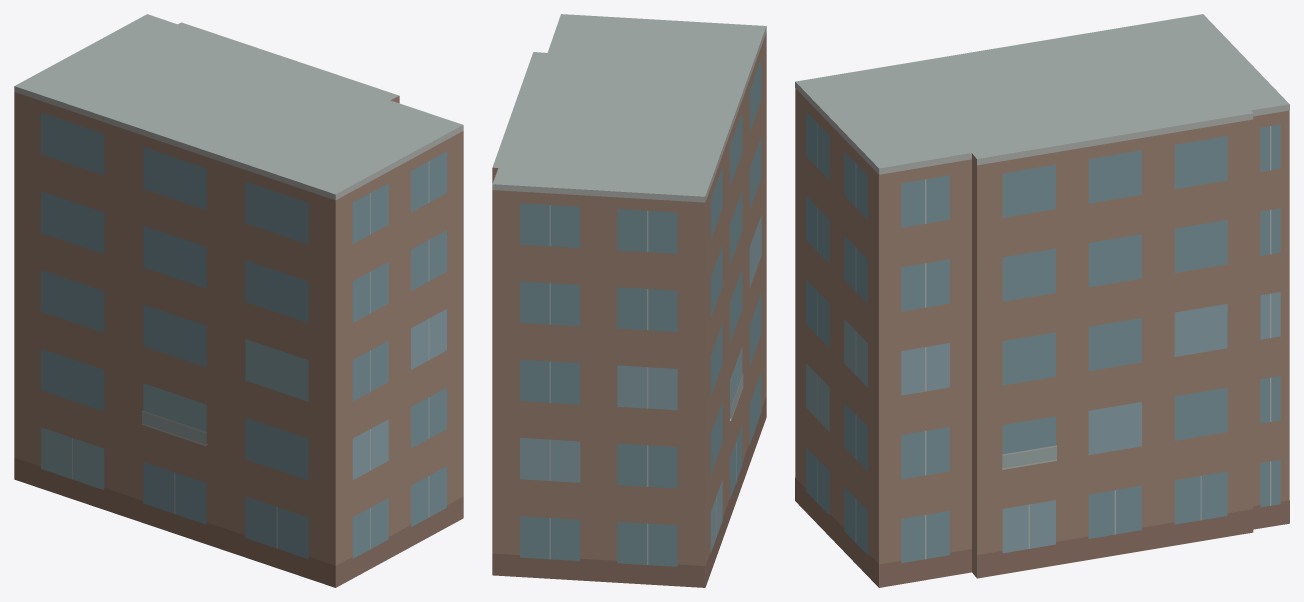
File: survey-upis-32885922.glb
3 renders of one model, left to right at view 1: azimuth 30°, elevation 25°; view 2: azimuth 150°, elevation 25°; view 3: azimuth 270°, elevation 25°, orthographic. The views are drawn at different scales.
Visible parts, largest first — view 1: survey-upis-32885922.tmp; view 2: survey-upis-32885922.tmp; view 3: survey-upis-32885922.tmp.
Boxes of the visible parts, left/top/right/bottom form: survey-upis-32885922.tmp: left=14, top=14, right=463, bottom=587; survey-upis-32885922.tmp: left=492, top=14, right=766, bottom=587; survey-upis-32885922.tmp: left=795, top=14, right=1289, bottom=587.
Bounding box in the file's own units: 12.98 × 16.4 × 17.54.
